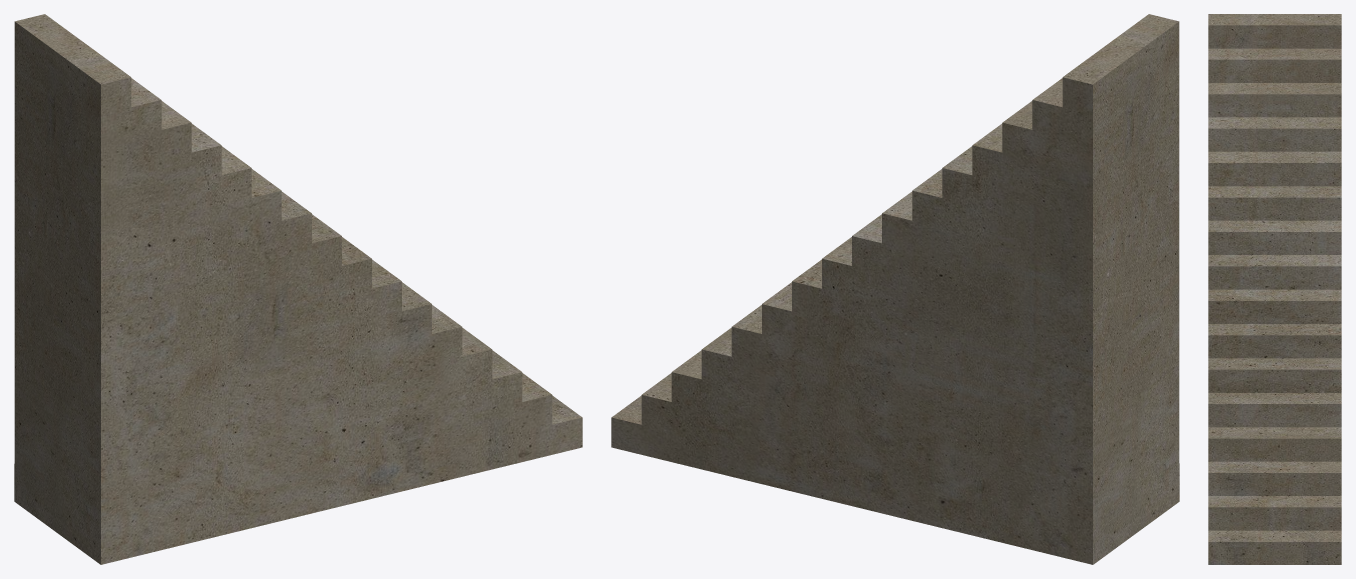
3 views of the same model, side by side, from view 1: azimuth 30°, elevation 25°; view 2: azimuth 150°, elevation 25°; view 3: azimuth 270°, elevation 25° (orthographic). The views are drawn at different scales.
Parts seen in each view (by area): view 1: Stairs; view 2: Stairs; view 3: Stairs.
Boxes of the visible parts, x1,y1,x2,y2 form: Stairs: (14,14,582,564); Stairs: (611,14,1179,564); Stairs: (1208,14,1341,564).
Bounding box in the file's own units: 130 × 124 × 40.44.
1 material, 1 textured.
